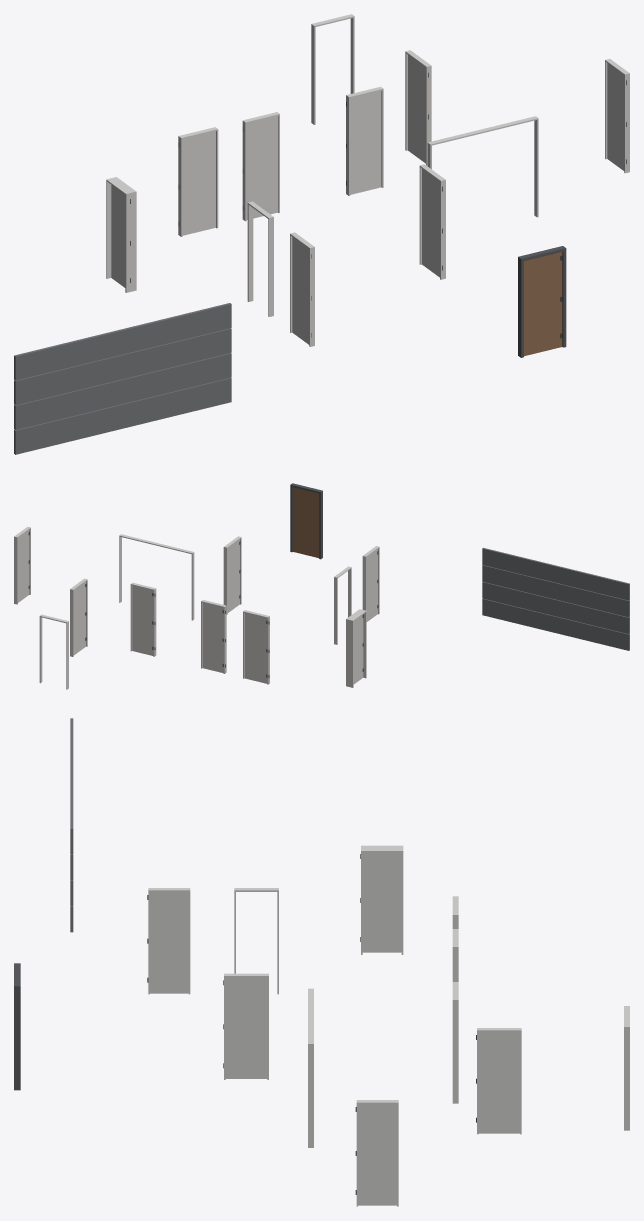
File: doors.glb
The picture shows the model from 3 angles, top to bottom: view 1: azimuth 30°, elevation 25°; view 2: azimuth 150°, elevation 25°; view 3: azimuth 270°, elevation 25°; orthographic projection. The views are drawn at different scales.
Parts seen in each view (by area): view 1: doors.garage.vehicle_door.door, doors.entry.front_door.leaf, doors.bed3.door.leaf, doors.wc.door.leaf, doors.bathroom.door.leaf, doors.garage.door.lining, doors.master.door.leaf, doors.bed2.door.leaf, doors.ensuite.door.leaf, doors.laundry.door.leaf, doors.wir.opening.lining, doors.garage.door.leaf (+10 smaller); view 2: doors.garage.vehicle_door.door, doors.entry.front_door.leaf, doors.bed3.door.leaf, doors.bathroom.door.leaf, doors.wc.door.leaf, doors.garage.door.lining, doors.master.door.leaf, doors.bed2.door.leaf, doors.ensuite.door.leaf, doors.laundry.door.leaf, doors.kitchen.servery.lining, doors.garage.door.leaf (+10 smaller); view 3: doors.master.door.leaf, doors.bed2.door.leaf, doors.garage.door.leaf, doors.ensuite.door.leaf, doors.laundry.door.leaf, doors.kitchen.servery.lining, doors.entry.front_door.frame, doors.garage.vehicle_door.door, doors.wc.door.lining, doors.garage.door.lining, doors.bed4.opening.lining, doors.ensuite.door.lining.
Boxes of the visible parts, bbox=[...] form: doors.garage.vehicle_door.door: bbox=[14, 303, 231, 454]; doors.entry.front_door.leaf: bbox=[524, 252, 562, 356]; doors.bed3.door.leaf: bbox=[182, 131, 215, 235]; doors.wc.door.leaf: bbox=[350, 91, 381, 194]; doors.bathroom.door.leaf: bbox=[246, 116, 277, 219]; doors.garage.door.lining: bbox=[106, 177, 136, 292]; doors.master.door.leaf: bbox=[422, 169, 439, 277]; doors.bed2.door.leaf: bbox=[408, 55, 425, 163]; doors.ensuite.door.leaf: bbox=[292, 237, 309, 344]; doors.laundry.door.leaf: bbox=[607, 63, 624, 170]; doors.wir.opening.lining: bbox=[247, 201, 273, 316]; doors.garage.door.leaf: bbox=[111, 185, 125, 287]; doors.garage.vehicle_door.door: bbox=[482, 547, 629, 650]; doors.entry.front_door.leaf: bbox=[293, 487, 318, 557]; doors.bed3.door.leaf: bbox=[244, 613, 267, 683]; doors.bathroom.door.leaf: bbox=[202, 602, 223, 673]; doors.wc.door.leaf: bbox=[132, 585, 153, 655]; doors.garage.door.lining: bbox=[346, 609, 366, 687]; doors.master.door.leaf: bbox=[227, 539, 239, 612]; doors.bed2.door.leaf: bbox=[73, 582, 85, 655]; doors.ensuite.door.leaf: bbox=[366, 549, 377, 621]; doors.laundry.door.leaf: bbox=[18, 530, 29, 602]; doors.kitchen.servery.lining: bbox=[119, 534, 194, 620]; doors.garage.door.leaf: bbox=[353, 615, 363, 684]; doors.master.door.leaf: bbox=[225, 977, 267, 1078]; doors.bed2.door.leaf: bbox=[478, 1032, 519, 1133]; doors.garage.door.leaf: bbox=[362, 852, 401, 952]; doors.ensuite.door.leaf: bbox=[150, 892, 188, 993]; doors.laundry.door.leaf: bbox=[358, 1104, 396, 1205]; doors.kitchen.servery.lining: bbox=[308, 988, 313, 1147]; doors.entry.front_door.frame: bbox=[14, 963, 20, 1090]; doors.garage.vehicle_door.door: bbox=[70, 718, 73, 932]; doors.wc.door.lining: bbox=[452, 982, 458, 1103]; doors.garage.door.lining: bbox=[361, 845, 403, 954]; doors.bed4.opening.lining: bbox=[624, 1006, 629, 1130]; doors.ensuite.door.lining: bbox=[148, 888, 190, 994].
Bounding box in the file's own units: 16.67 × 2.1 × 11.28.
